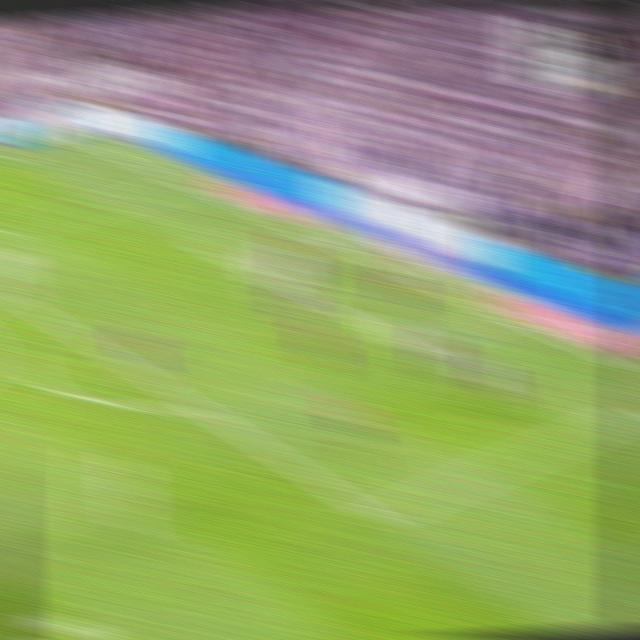bigarea_bottom_inner: (359, 499, 395, 534)
bigarea_bottom_outter: (484, 304, 518, 328)
bigarea_top_outter: (167, 171, 200, 194)
bottom_arc_area_intersection: (176, 389, 213, 421)
corner: (61, 129, 94, 146)
smallarea_bottom_inner: (401, 335, 433, 361)
smallarea_top_inner: (194, 238, 226, 262)
top_arc_area_intersection: (22, 299, 56, 326)
